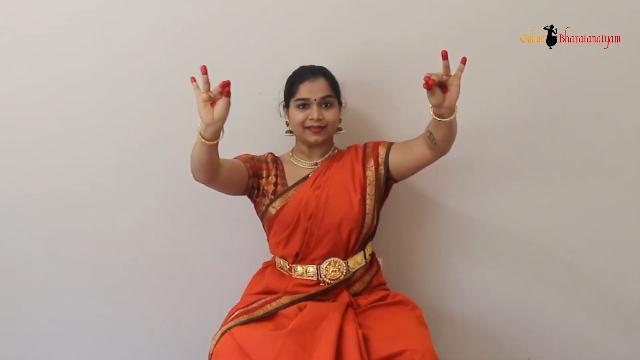katak: (394, 25, 484, 139), (181, 46, 269, 162)
